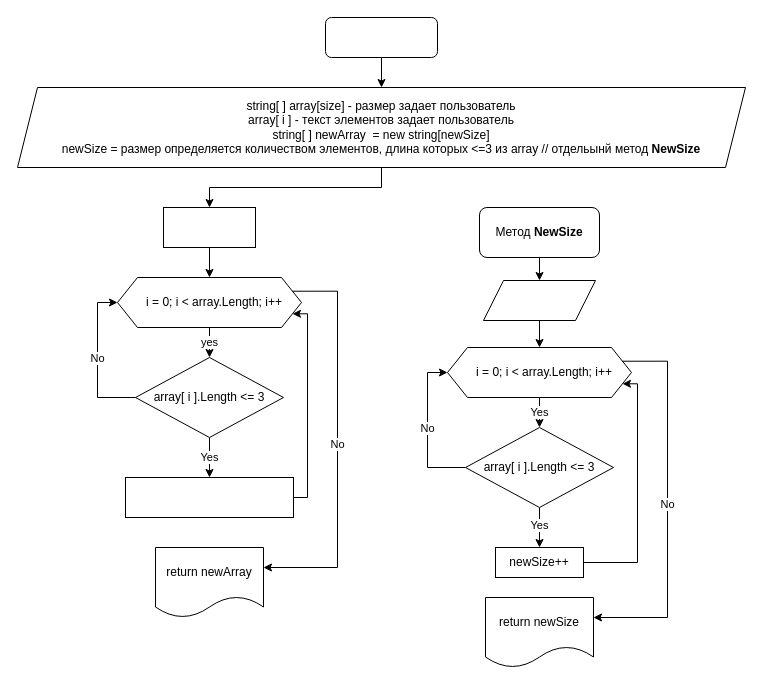
This 763x685 diagram has some shape labels left out. Each missing label, with the centre of its shape:
int j = 0: the point at 209,227
newArray[ j ] = array[ i ]; j++;: the point at 209,497
newSize = 0: the point at 539,300
START: the point at 381,37
